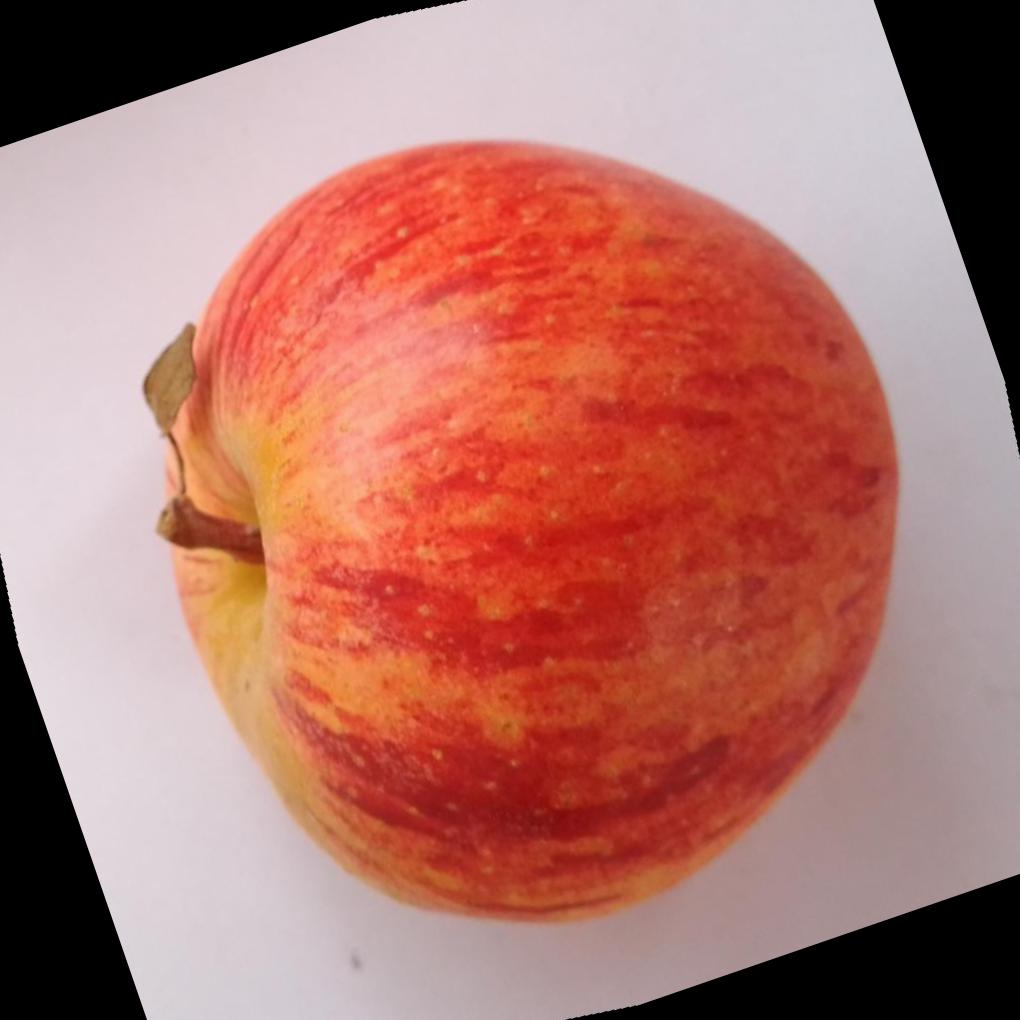FreshGuava: (139, 133, 900, 923)
